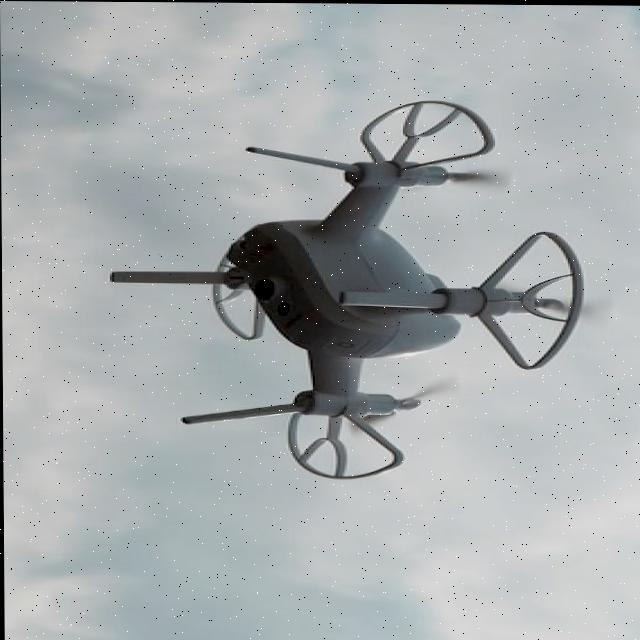drone: (147, 98, 605, 484)
